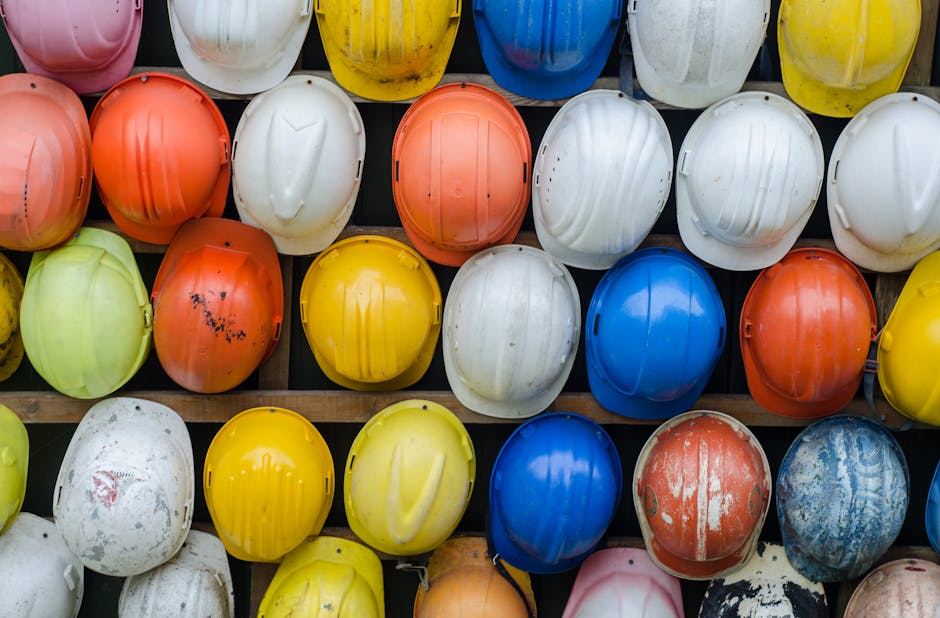safety_helmet: (2, 1, 937, 616), (675, 89, 824, 271), (390, 81, 532, 267), (531, 88, 674, 270), (52, 396, 195, 577), (230, 72, 366, 256), (584, 246, 727, 420), (631, 409, 773, 581), (738, 246, 878, 419), (299, 234, 442, 392), (487, 411, 623, 575)
